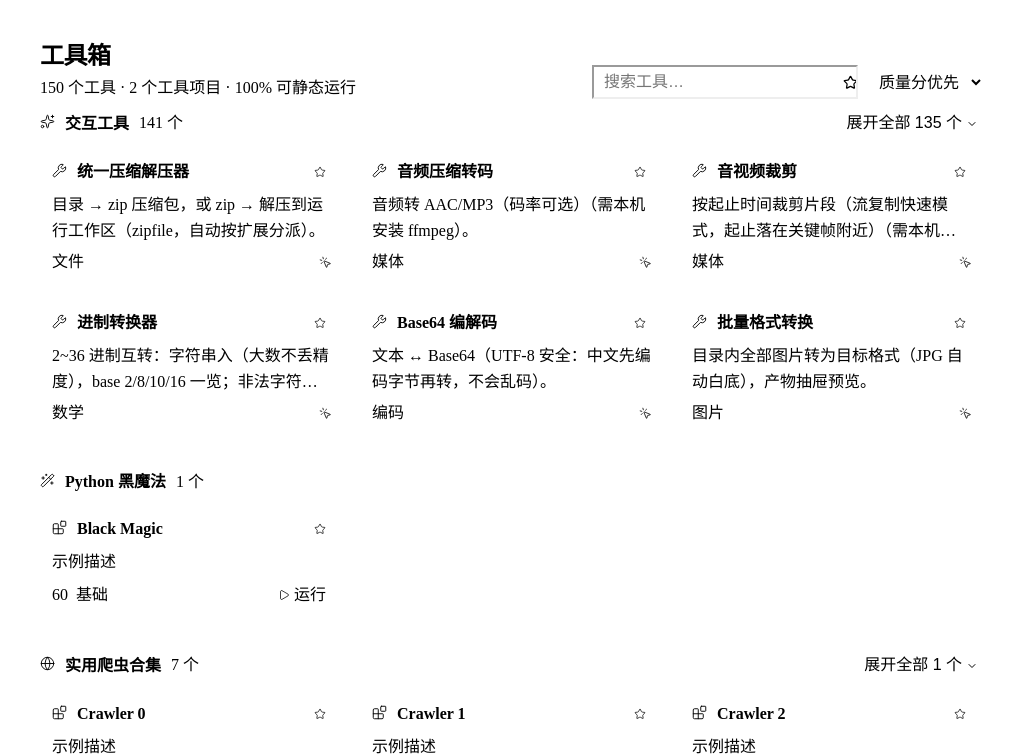
Scenario: ToolboxView › 大项目默认只露前 6 张卡，可「展开全部」再「收起」
The width and height of the screenshot is (1024, 754).
Click the button "展开全部 1 个" at (921, 666), box x1=858 y1=653 x2=984 y2=678
(page scrolled)
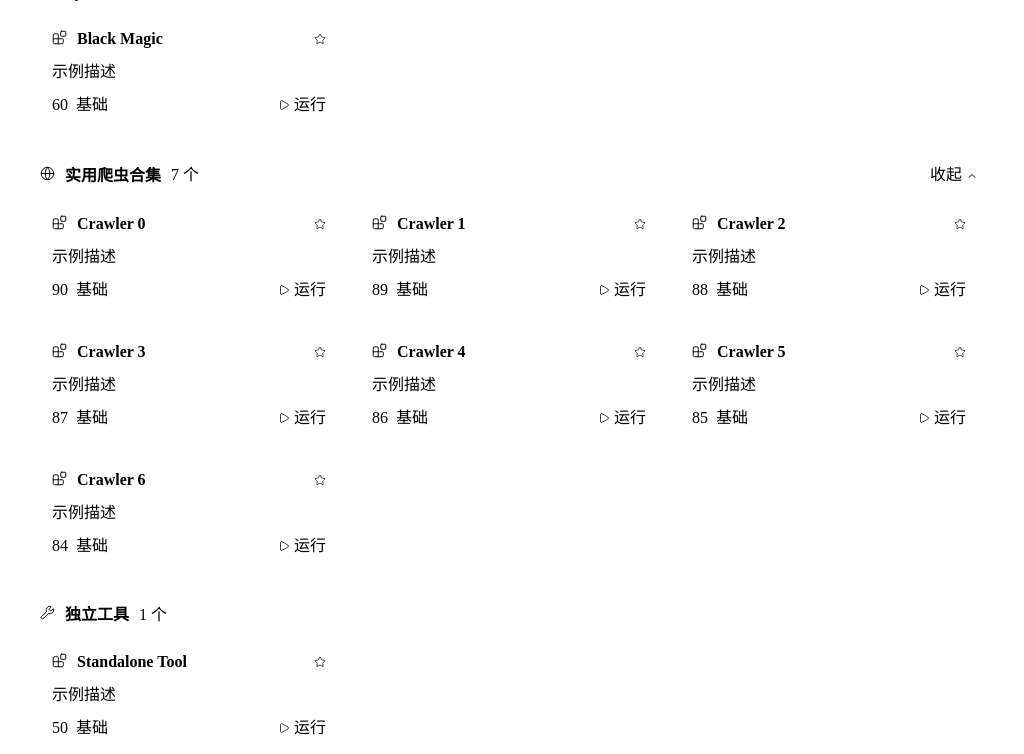
Result: the number of "ExampleCard" components is 7
Result: the element with class "mb-9" shows "收起" at x1=924 y1=163 x2=984 y2=188
